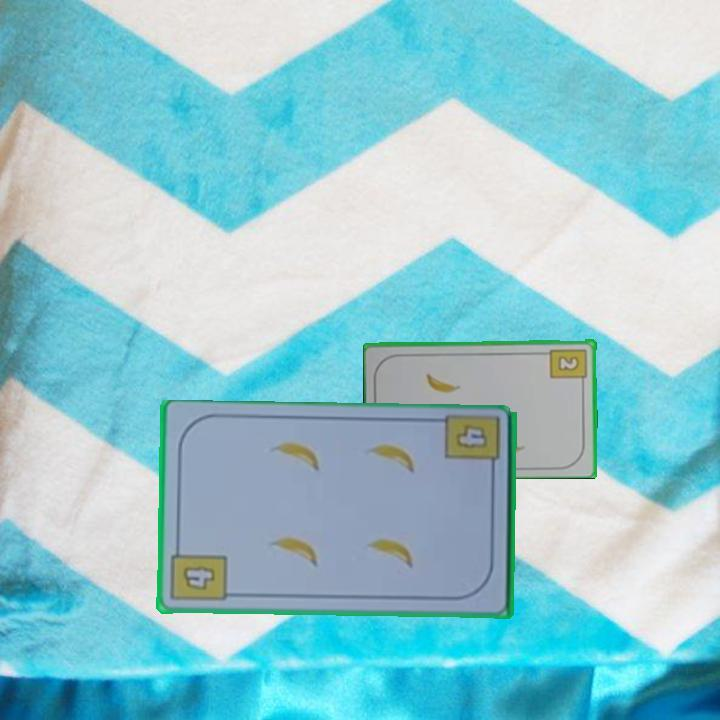2b: (548, 345, 590, 387)
4b: (168, 540, 230, 605), (451, 421, 491, 452)
